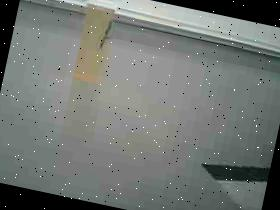Bottle A: (61, 0, 131, 96)
